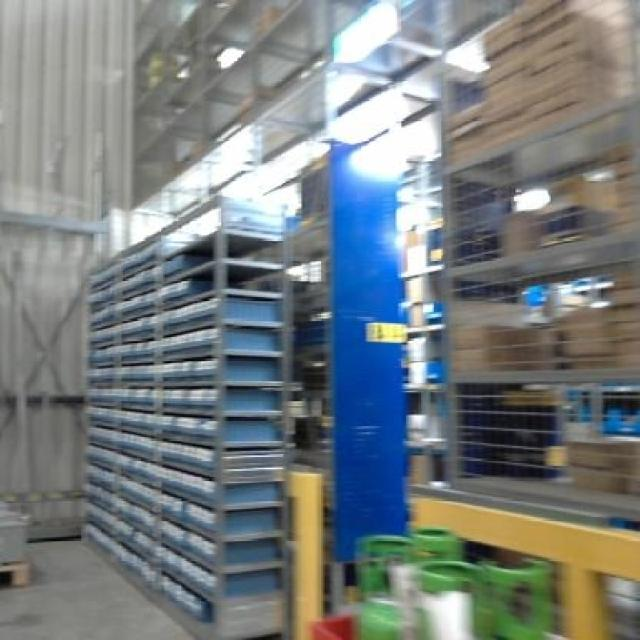pallets: (85, 197, 283, 637)
